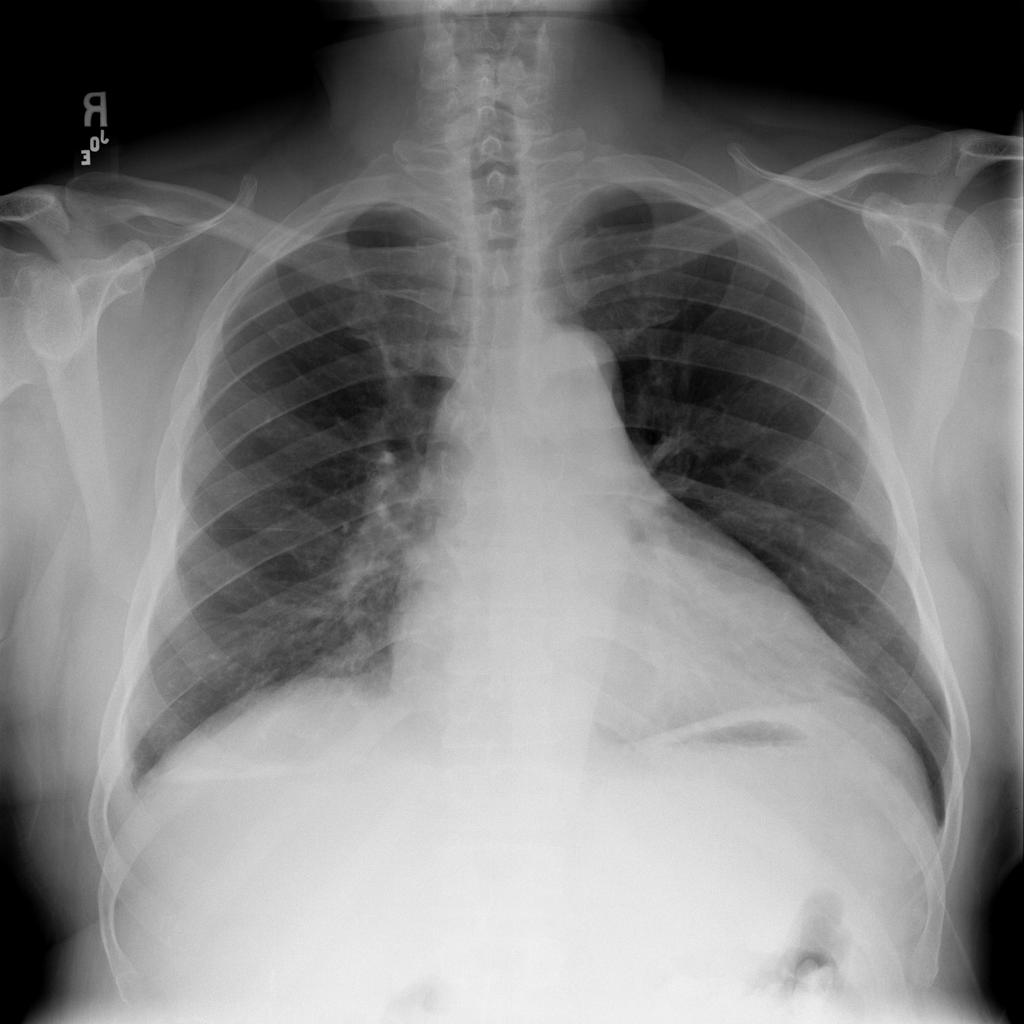Cardiomegaly: (347, 445, 883, 781)
